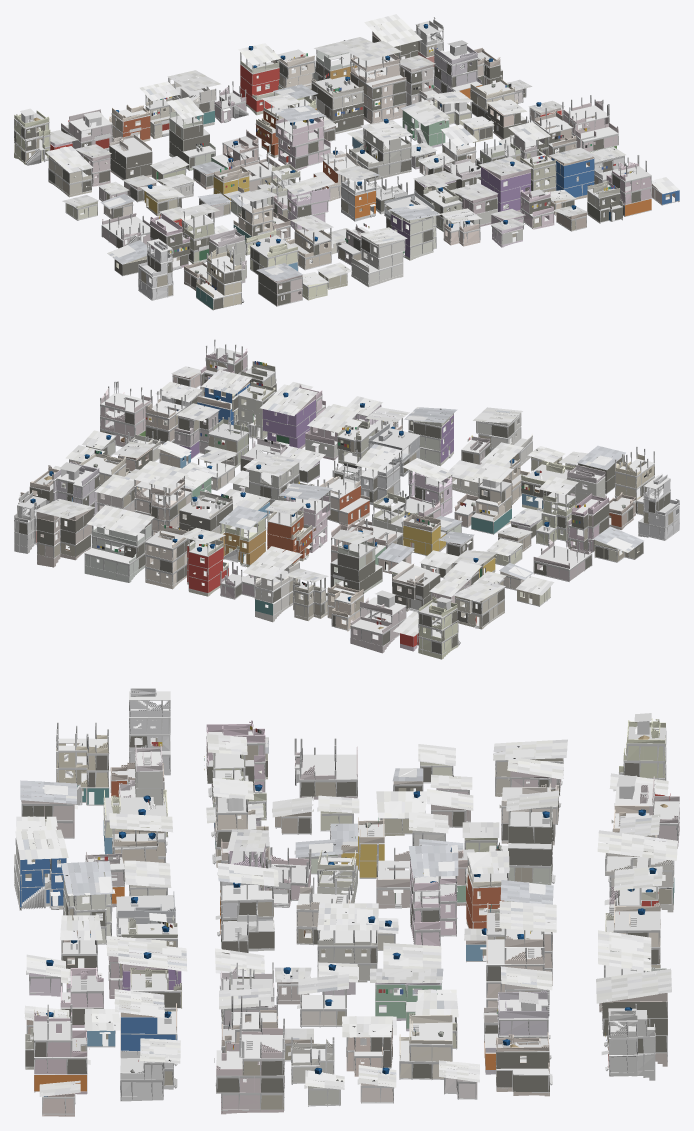
3 renders of one model, top to bottom at view 1: azimuth 30°, elevation 25°; view 2: azimuth 150°, elevation 25°; view 3: azimuth 270°, elevation 25°, orthographic. The views are drawn at different scales.
Visible parts, largest first — view 1: T_24_23; view 2: T_24_23; view 3: T_24_23.
Part boxes in pixels (x1,y1,x2,y2): T_24_23: (14,14,679,310); T_24_23: (14,339,679,659); T_24_23: (14,688,679,1116).
Bounding box in the file's own units: 129 × 17.09 × 101.
